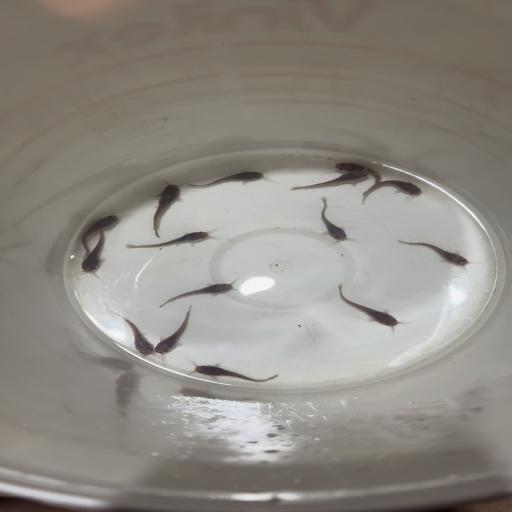lele: (336, 283, 406, 331), (102, 308, 154, 358), (396, 239, 480, 268), (157, 281, 241, 309), (187, 360, 279, 384), (73, 213, 121, 259), (124, 228, 220, 250), (311, 197, 355, 244), (148, 180, 183, 238), (154, 305, 193, 357), (184, 167, 274, 189), (331, 160, 385, 195), (290, 168, 370, 191), (74, 228, 110, 276), (359, 179, 424, 204)
